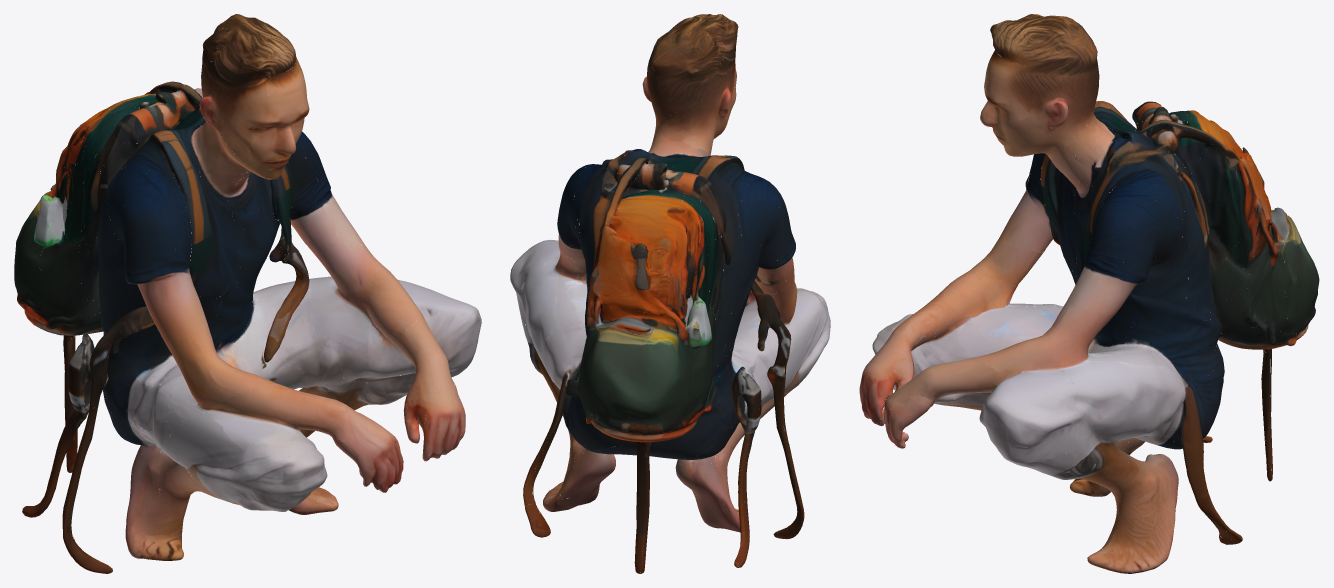
Rendered from levels3.glb.
3 views of the same model, side by side, from view 1: azimuth 30°, elevation 25°; view 2: azimuth 150°, elevation 25°; view 3: azimuth 270°, elevation 25° (orthographic). The views are drawn at different scales.
Visible parts, largest first — view 1: tripo_node_379c226e-ac08-414b-910d-ded5a541d4be; view 2: tripo_node_379c226e-ac08-414b-910d-ded5a541d4be; view 3: tripo_node_379c226e-ac08-414b-910d-ded5a541d4be.
Boxes of the visible parts, bbox=[...] form: tripo_node_379c226e-ac08-414b-910d-ded5a541d4be: bbox=[14, 14, 481, 573]; tripo_node_379c226e-ac08-414b-910d-ded5a541d4be: bbox=[510, 14, 830, 573]; tripo_node_379c226e-ac08-414b-910d-ded5a541d4be: bbox=[859, 14, 1319, 573].
Bounding box in the file's own units: 2.03 × 2.83 × 2.34.
Materials: 1 (1 with a texture image).
